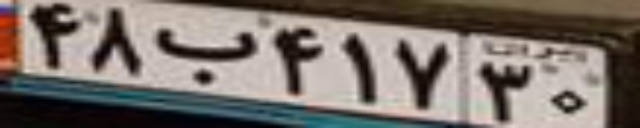0: (545, 90, 587, 115)
1: (338, 31, 379, 105)
3: (478, 60, 532, 122)
4: (270, 25, 320, 97), (27, 2, 79, 68)
7: (393, 37, 456, 110)
8: (87, 6, 143, 75)
be: (155, 27, 259, 87)
